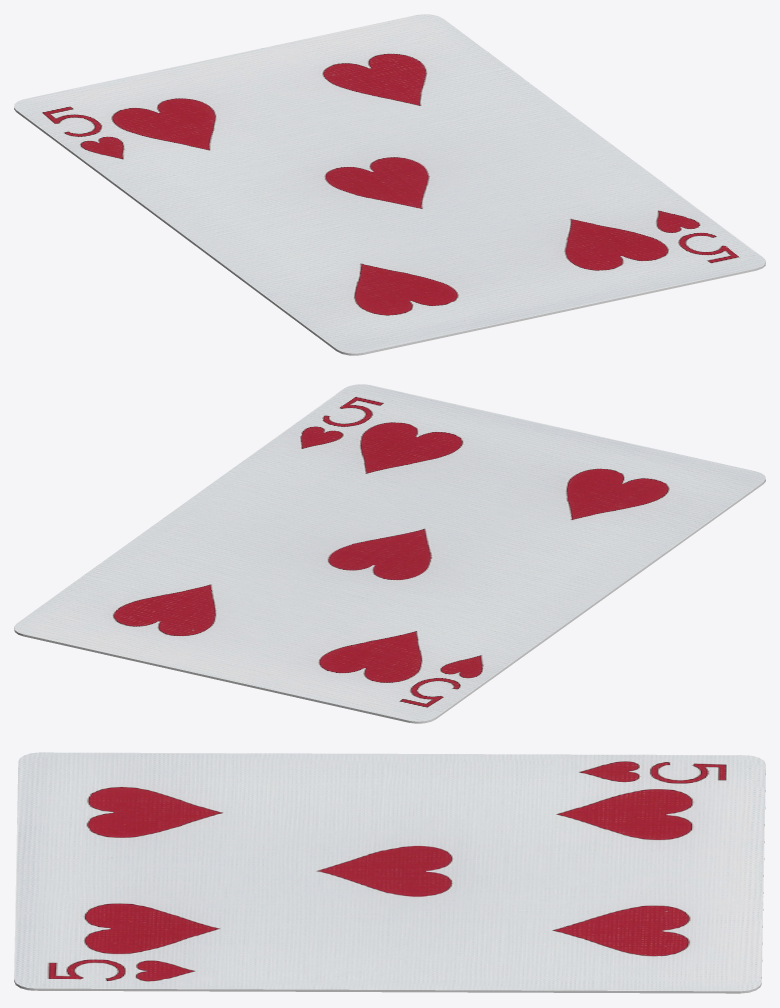
Rendered from hearts5.fbx.
3 views of the same model, one above another, from view 1: azimuth 30°, elevation 25°; view 2: azimuth 150°, elevation 25°; view 3: azimuth 270°, elevation 25° (orthographic). The views are drawn at different scales.
Parts seen in each view (by area): view 1: Hearts_5_6; view 2: Hearts_5_6; view 3: Hearts_5_6.
Part boxes in pixels (box(x1,y1,x2,y2)): Hearts_5_6: box(14, 14, 765, 355); Hearts_5_6: box(14, 384, 765, 723); Hearts_5_6: box(14, 752, 765, 993).
Bounding box in the file's own units: 6.33 × 0.1793 × 8.85.
